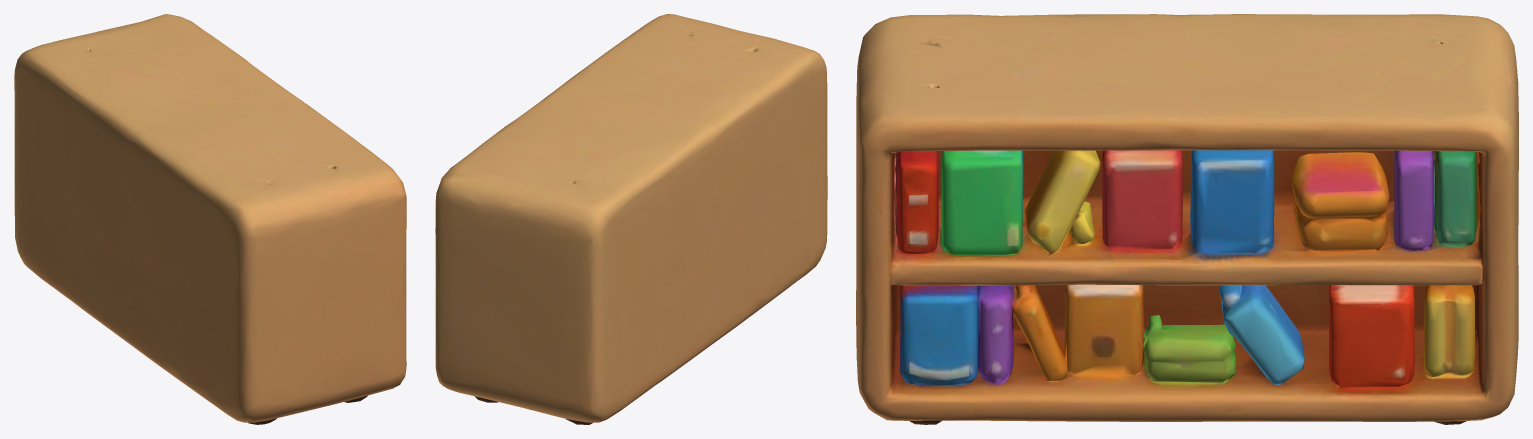
File: school-bookshelf.glb
The picture shows the model from 3 angles, left to right: view 1: azimuth 30°, elevation 25°; view 2: azimuth 150°, elevation 25°; view 3: azimuth 270°, elevation 25°; orthographic projection. The views are drawn at different scales.
Visible parts, largest first — view 1: tripo_node_4d998e02-b827-4e55-ae50-5c177881330a; view 2: tripo_node_4d998e02-b827-4e55-ae50-5c177881330a; view 3: tripo_node_4d998e02-b827-4e55-ae50-5c177881330a.
Boxes of the visible parts, x1,y1,x2,y2 form: tripo_node_4d998e02-b827-4e55-ae50-5c177881330a: (14,14,406,424); tripo_node_4d998e02-b827-4e55-ae50-5c177881330a: (435,14,827,424); tripo_node_4d998e02-b827-4e55-ae50-5c177881330a: (856,14,1518,424).
Size of the model in its own units: 0.4052 by 0.5438 by 1.
Materials: 1 (1 with a texture image).
